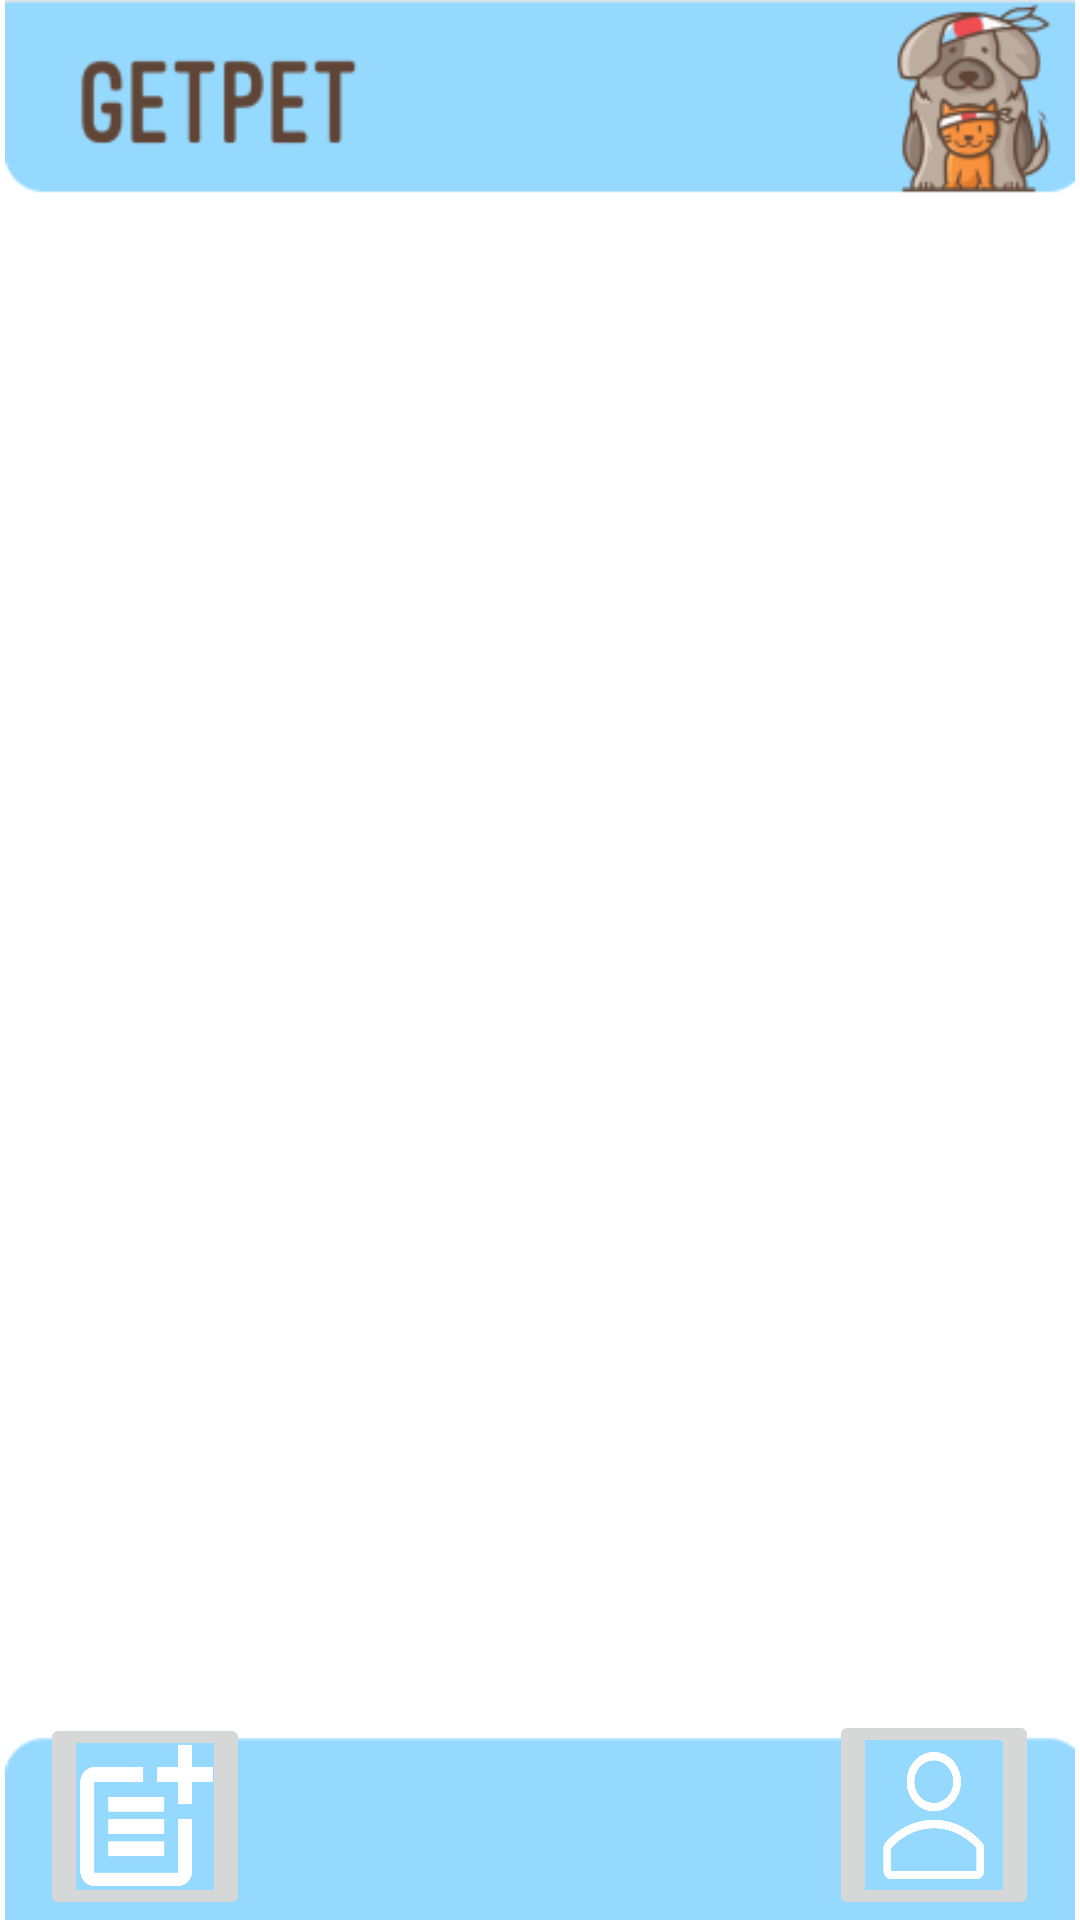

Named icons in this screenshot (1080w x 1920h) and their centers, (x=x, y=y):
addpost: (x=145, y=1816)
profil: (x=934, y=1815)
